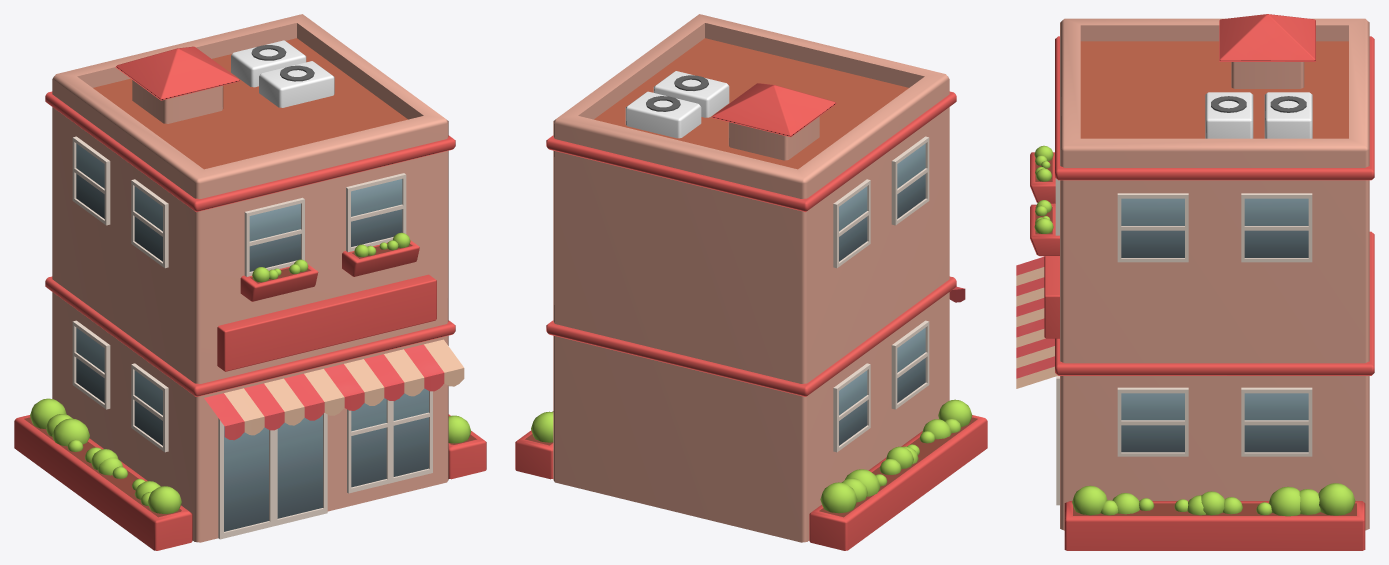
The model's file is Decor_Nha_02.fbx.
3 renders of one model, left to right at view 1: azimuth 30°, elevation 25°; view 2: azimuth 150°, elevation 25°; view 3: azimuth 270°, elevation 25°, orthographic. The views are drawn at different scales.
Parts seen in each view (by area): view 1: Decor_Nha_02; view 2: Decor_Nha_02; view 3: Decor_Nha_02.
Part boxes in pixels (left/top/right/bottom): Decor_Nha_02: left=14, top=14, right=486, bottom=550; Decor_Nha_02: left=515, top=14, right=987, bottom=550; Decor_Nha_02: left=1016, top=14, right=1374, bottom=550.
Size of the model in its own units: 2039 by 2363 by 1802.
